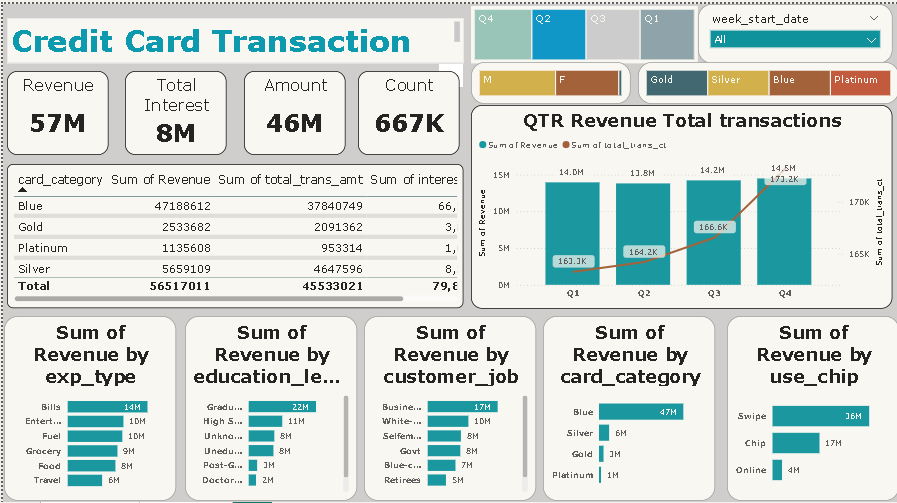

The dashboard page shown, as its layout file describes it:
{"tool":"powerbi","page":{"name":"Credit Card","canvas":[1280,720],"ordinal":0},"visuals":[{"type":"textbox","box":[5.8,20.2,652.3,64.8],"z":0},{"type":"lineStackedColumnComboChart","title":"QTR Revenue Total transactions","fields":{"Y":["Sum(public cc_detail.Revenue)"],"Category":["public cc_detail.qtr"],"Y2":["Sum(public cc_detail.total_trans_ct)"]},"box":[668.2,144,601.9,290.9],"z":1000},{"type":"barChart","fields":{"Y":["Sum(public cc_detail.Revenue)"],"Category":["public cc_detail.exp_type"]},"box":[1.5,446.4,246,264],"z":2000},{"type":"barChart","fields":{"Y":["Sum(public cc_detail.Revenue)"],"Category":["public cust_detail.education_level"]},"box":[260.6,446.4,246,263.5],"z":3000},{"type":"barChart","fields":{"Y":["Sum(public cc_detail.Revenue)"],"Category":["public cust_detail.customer_job"]},"box":[515.5,446.4,246,263.5],"z":4000},{"type":"barChart","fields":{"Y":["Sum(public cc_detail.Revenue)"],"Category":["public cc_detail.card_category"]},"box":[771.8,446.4,246.2,263.5],"z":5000},{"type":"barChart","fields":{"Y":["Sum(public cc_detail.Revenue)"],"Category":["public cc_detail.use_chip"]},"box":[1033.9,446.4,246.2,263.5],"z":6000},{"type":"tableEx","fields":{"Values":["public cc_detail.card_category","Sum(public cc_detail.Revenue)","Sum(public cc_detail.total_trans_amt)","Sum(public cc_detail.interest_earned)"]},"box":[5.8,229,652.3,205.9],"z":7000},{"type":"card","title":"Revenue","fields":{"Values":["Sum(public cc_detail.Revenue)"]},"box":[5.8,95,145.4,119.5],"z":8000},{"type":"card","title":"Amount","fields":{"Values":["Sum(public cc_detail.total_trans_amt)"]},"box":[344.2,95,145.4,119.5],"z":9000},{"type":"card","title":"Total Interest","fields":{"Values":["Sum(public cc_detail.interest_earned)"]},"box":[174.2,95,145.4,119.5],"z":10000},{"type":"card","title":"Count","fields":{"Values":["Sum(public cc_detail.total_trans_ct)"]},"box":[506.9,95,145.4,119.5],"z":11000},{"type":"slicer","fields":{"Values":["public cc_detail.week_start_date"]},"box":[992.2,0,277.9,85],"z":12000},{"type":"treemap","fields":{"Group":["public cc_detail.qtr"],"Values":["CountNonNull(public cc_detail.total_trans_ct)"]},"box":[668.2,2.9,324,82.1],"z":13000},{"type":"treemap","fields":{"Group":["public cust_detail.gender"],"Values":["Sum(public cc_detail.Revenue)"]},"box":[668.2,83.5,227.5,60.5],"z":14000},{"type":"treemap","fields":{"Group":["public cc_detail.card_category"],"Values":["Avg(public cc_detail.client_num)"]},"box":[907.2,83.5,373,60.5],"z":15000}]}

Visuals, with their boxes in screenshot pixels (x1, y1, x2, y2), scaled from the page's 1280x720 canvas onto the 897x503 screenshot:
textbox: <bbox>4, 14, 461, 59</bbox>
"QTR Revenue Total transactions" lineStackedColumnComboChart: <bbox>468, 101, 890, 304</bbox>
barChart - Sum(public cc_detail.Revenue) x public cc_detail.exp_type: <bbox>1, 312, 173, 496</bbox>
barChart - Sum(public cc_detail.Revenue) x public cust_detail.education_level: <bbox>183, 312, 355, 496</bbox>
barChart - Sum(public cc_detail.Revenue) x public cust_detail.customer_job: <bbox>361, 312, 534, 496</bbox>
barChart - Sum(public cc_detail.Revenue) x public cc_detail.card_category: <bbox>541, 312, 713, 496</bbox>
barChart - Sum(public cc_detail.Revenue) x public cc_detail.use_chip: <bbox>725, 312, 896, 496</bbox>
tableEx - public cc_detail.card_category x Sum(public cc_detail.Revenue): <bbox>4, 160, 461, 304</bbox>
"Revenue" card: <bbox>4, 66, 106, 150</bbox>
"Amount" card: <bbox>241, 66, 343, 150</bbox>
"Total Interest" card: <bbox>122, 66, 224, 150</bbox>
"Count" card: <bbox>355, 66, 457, 150</bbox>
slicer - public cc_detail.week_start_date: <bbox>695, 0, 890, 59</bbox>
treemap - public cc_detail.qtr x CountNonNull(public cc_detail.total_trans_ct): <bbox>468, 2, 695, 59</bbox>
treemap - public cust_detail.gender x Sum(public cc_detail.Revenue): <bbox>468, 58, 628, 101</bbox>
treemap - public cc_detail.card_category x Avg(public cc_detail.client_num): <bbox>636, 58, 896, 101</bbox>
